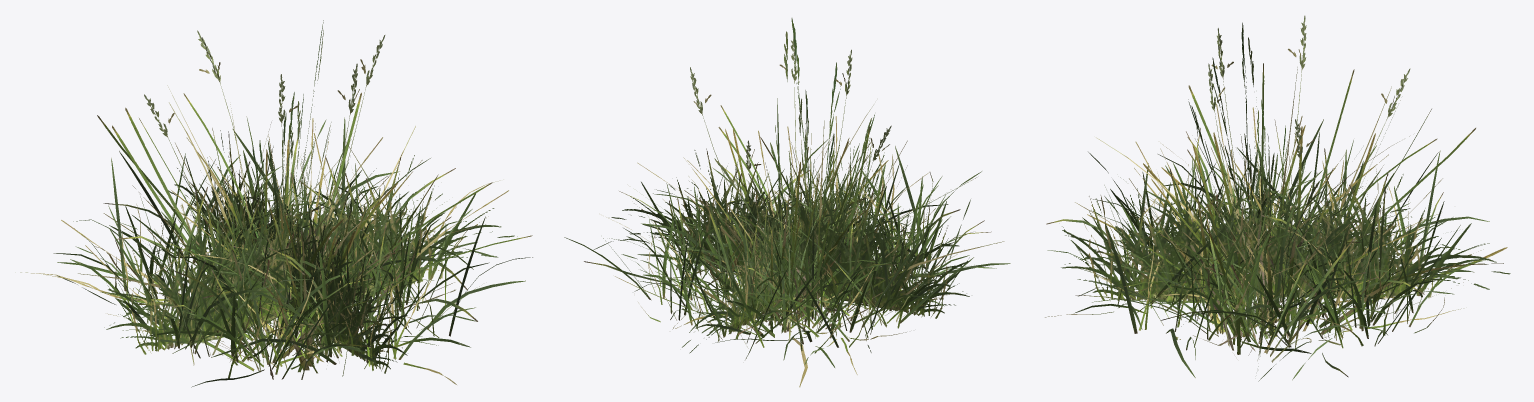
The model's file is wild.glb.
3 renders of one model, left to right at view 1: azimuth 30°, elevation 25°; view 2: azimuth 150°, elevation 25°; view 3: azimuth 270°, elevation 25°, orthographic. The views are drawn at different scales.
Parts seen in each view (by area): view 1: wild_v0_lod0, wild_v1_lod0, wild_v2_lod0; view 2: wild_v0_lod0, wild_v1_lod0, wild_v2_lod0; view 3: wild_v0_lod0, wild_v1_lod0, wild_v2_lod0.
Part boxes in pixels (bbox=[...]): wild_v0_lod0: bbox=[41, 117, 532, 384]; wild_v1_lod0: bbox=[15, 116, 489, 387]; wild_v2_lod0: bbox=[61, 20, 532, 379]; wild_v0_lod0: bbox=[564, 98, 996, 367]; wild_v1_lod0: bbox=[584, 139, 1010, 374]; wild_v2_lod0: bbox=[615, 18, 1004, 387]; wild_v0_lod0: bbox=[1045, 112, 1510, 381]; wild_v1_lod0: bbox=[1077, 128, 1488, 377]; wild_v2_lod0: bbox=[1075, 15, 1507, 355].
Size of what is drawn, in the model's own units: 0.5745 by 0.4095 by 0.5404.
Materials: 1 (1 with a texture image).
